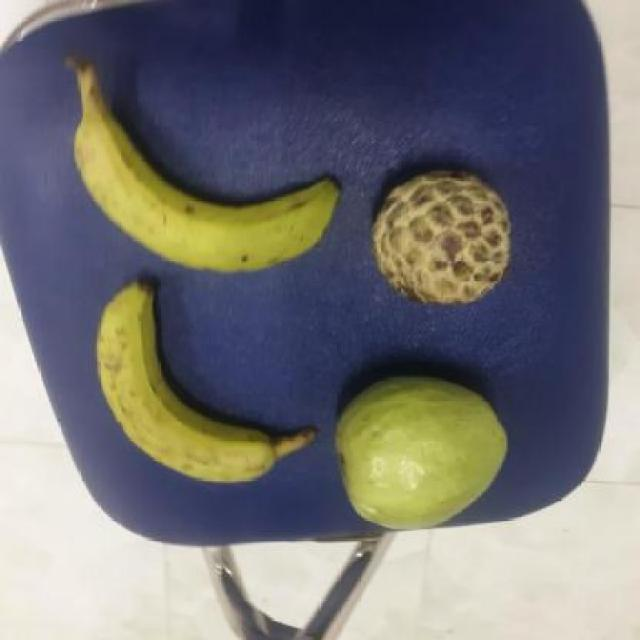banana: (80, 91, 352, 272), (94, 285, 323, 483)
guava: (335, 376, 508, 536)
sugar apple: (372, 169, 518, 306)
